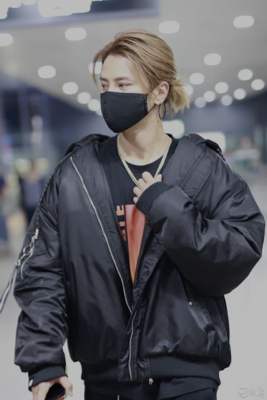with_mask: (98, 75, 152, 135)
